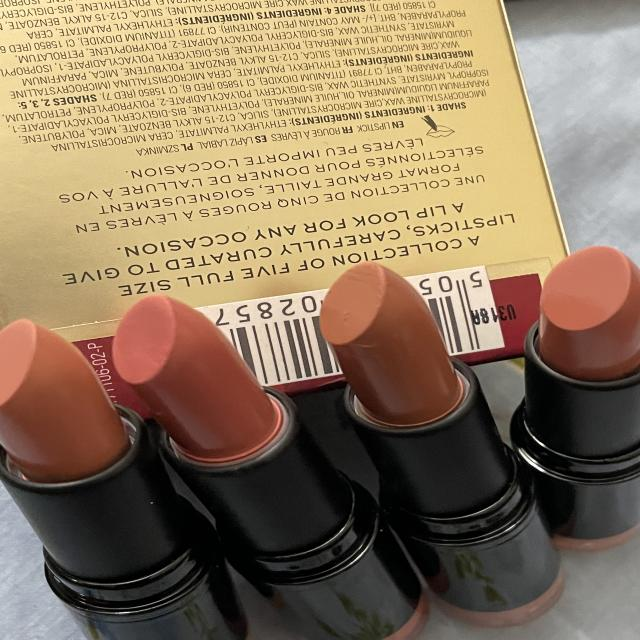lip stick: (300, 251, 526, 576), (504, 234, 640, 566), (102, 288, 298, 475), (3, 302, 136, 502)
